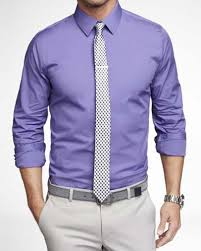F_belt: (45, 176, 158, 207)
F_shirt: (13, 7, 193, 202)
F_tie: (88, 22, 116, 199)
